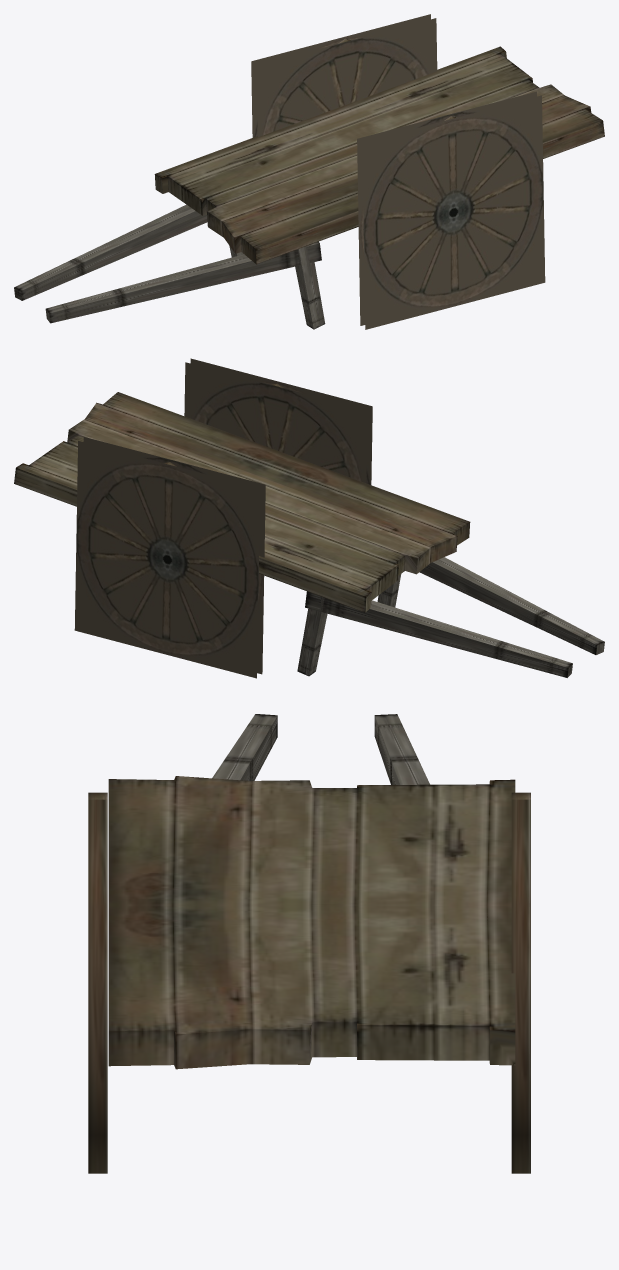
Rendered from cart_flat.fbx.
The picture shows the model from 3 angles, top to bottom: view 1: azimuth 30°, elevation 25°; view 2: azimuth 150°, elevation 25°; view 3: azimuth 270°, elevation 25°; orthographic projection. The views are drawn at different scales.
Parts seen in each view (by area): view 1: spokes1, CartBase1, spokes4, handle1, handle2, spokes3, spokes2, wood2; view 2: spokes2, CartBase1, spokes3, handle2, handle1, spokes4, spokes1, wood4; view 3: CartBase1, wheel1, wheel2, handle1, handle2.
Boxes of the visible parts, left/top/right/bottom form: spokes1: left=362, top=95, right=545, bottom=329; CartBase1: left=154, top=46, right=604, bottom=264; spokes4: left=256, top=18, right=437, bottom=137; handle1: left=45, top=241, right=321, bottom=323; handle2: left=14, top=204, right=207, bottom=300; spokes3: left=357, top=91, right=536, bottom=325; spokes2: left=251, top=14, right=430, bottom=137; wood2: left=295, top=244, right=325, bottom=329; spokes2: left=74, top=441, right=260, bottom=678; CartBase1: left=14, top=392, right=470, bottom=612; spokes3: left=184, top=362, right=367, bottom=482; handle2: left=305, top=591, right=572, bottom=677; handle1: left=419, top=557, right=604, bottom=654; spokes4: left=83, top=437, right=265, bottom=674; spokes1: left=190, top=358, right=372, bottom=484; wood4: left=297, top=596, right=327, bottom=676; CartBase1: left=108, top=776, right=515, bottom=1069; wheel1: left=88, top=792, right=107, bottom=1173; wheel2: left=511, top=792, right=530, bottom=1173; handle1: left=212, top=714, right=277, bottom=780; handle2: left=374, top=714, right=429, bottom=784.
Bounding box in the file's own units: 1579 × 554 × 580.
2 materials, 2 textured.
